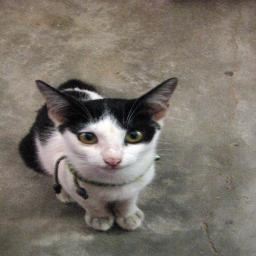catnose: (102, 156, 122, 168)
